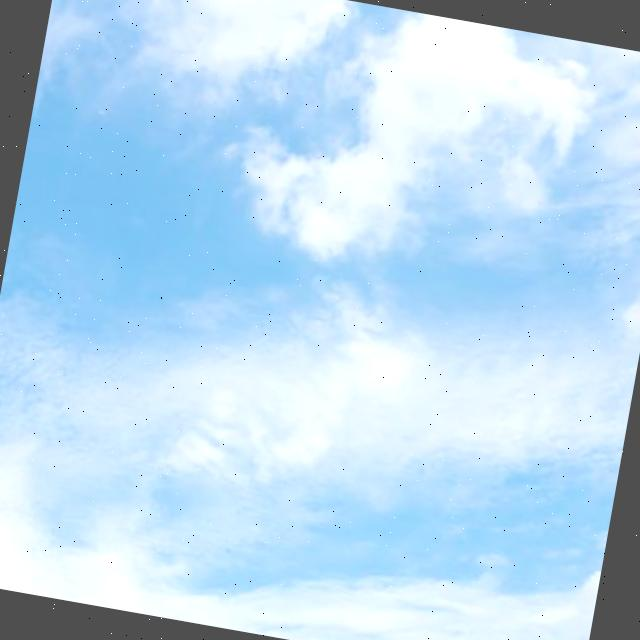Ci: (1, 1, 640, 640)
